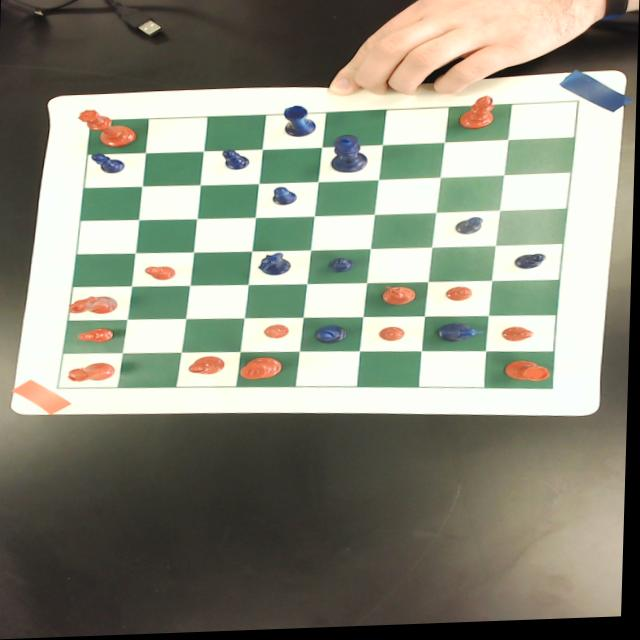B: (315, 328, 349, 348)
K: (331, 137, 370, 176)
N: (436, 326, 487, 346), (260, 254, 292, 278)
P: (89, 153, 126, 176), (218, 150, 253, 173), (514, 257, 549, 274), (455, 220, 484, 239), (272, 188, 298, 209), (328, 259, 356, 276)
R: (283, 107, 318, 140)
b: (457, 100, 497, 133), (189, 358, 227, 378)
k: (240, 358, 286, 382)
n: (68, 295, 119, 316), (381, 288, 418, 311)
p: (76, 328, 117, 345), (504, 330, 536, 346), (145, 266, 176, 282), (446, 289, 472, 306), (265, 326, 290, 341), (381, 330, 405, 345)
q: (77, 109, 138, 149)
r: (505, 363, 552, 388), (67, 363, 118, 383)
